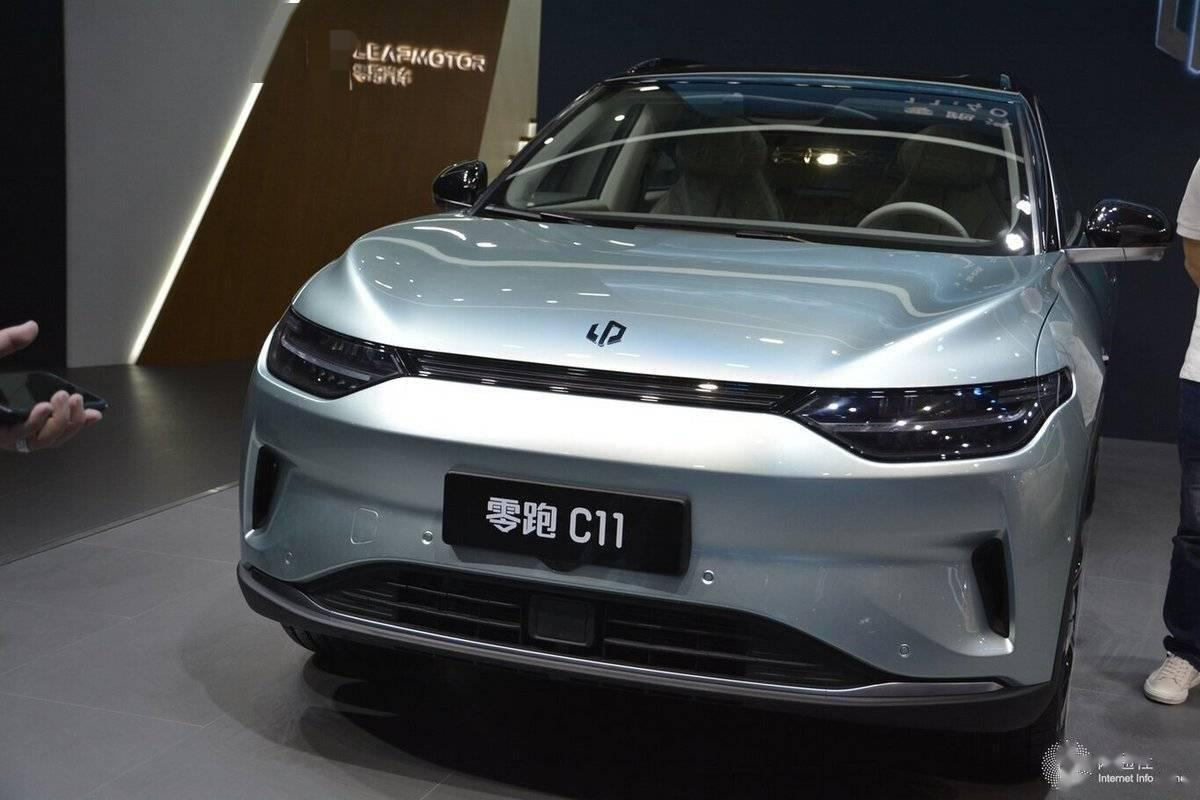LEAPMOTOR: (585, 319, 627, 347)
